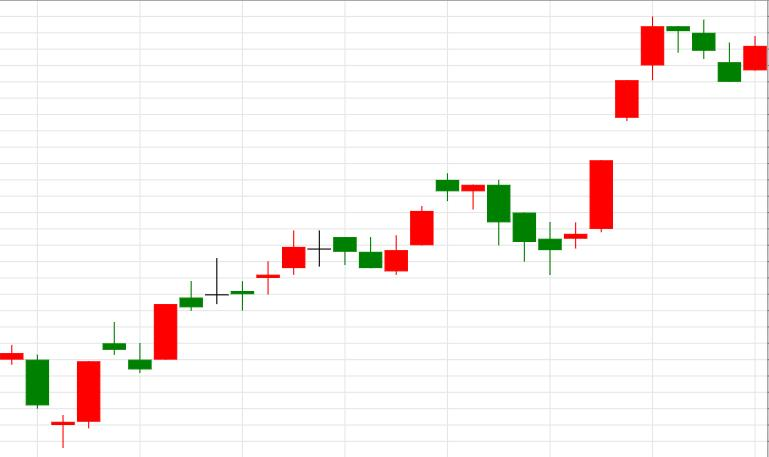three_white_soldiers_rise: (488, 17, 664, 275)
